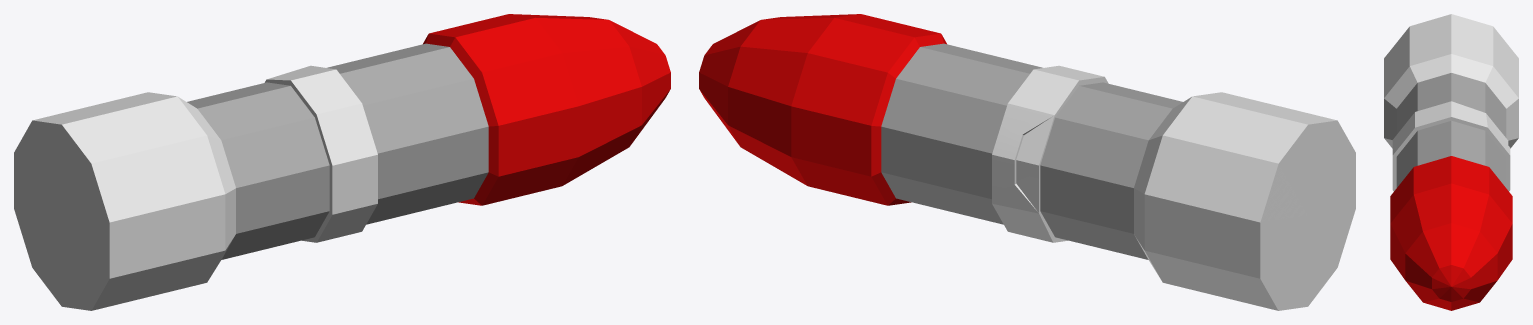
The model's file is rocket.fbx.
The picture shows the model from 3 angles, left to right: view 1: azimuth 30°, elevation 25°; view 2: azimuth 150°, elevation 25°; view 3: azimuth 270°, elevation 25°; orthographic projection. The views are drawn at different scales.
Visible parts, largest first — view 1: pCylinder1; view 2: pCylinder1; view 3: pCylinder1.
Part boxes in pixels (x1=…): pCylinder1: x1=14, y1=14, x2=670, y2=310; pCylinder1: x1=699, y1=14, x2=1355, y2=310; pCylinder1: x1=1384, y1=14, x2=1518, y2=310.
Size of the model in its own units: 8.55 by 2.46 by 2.34.
